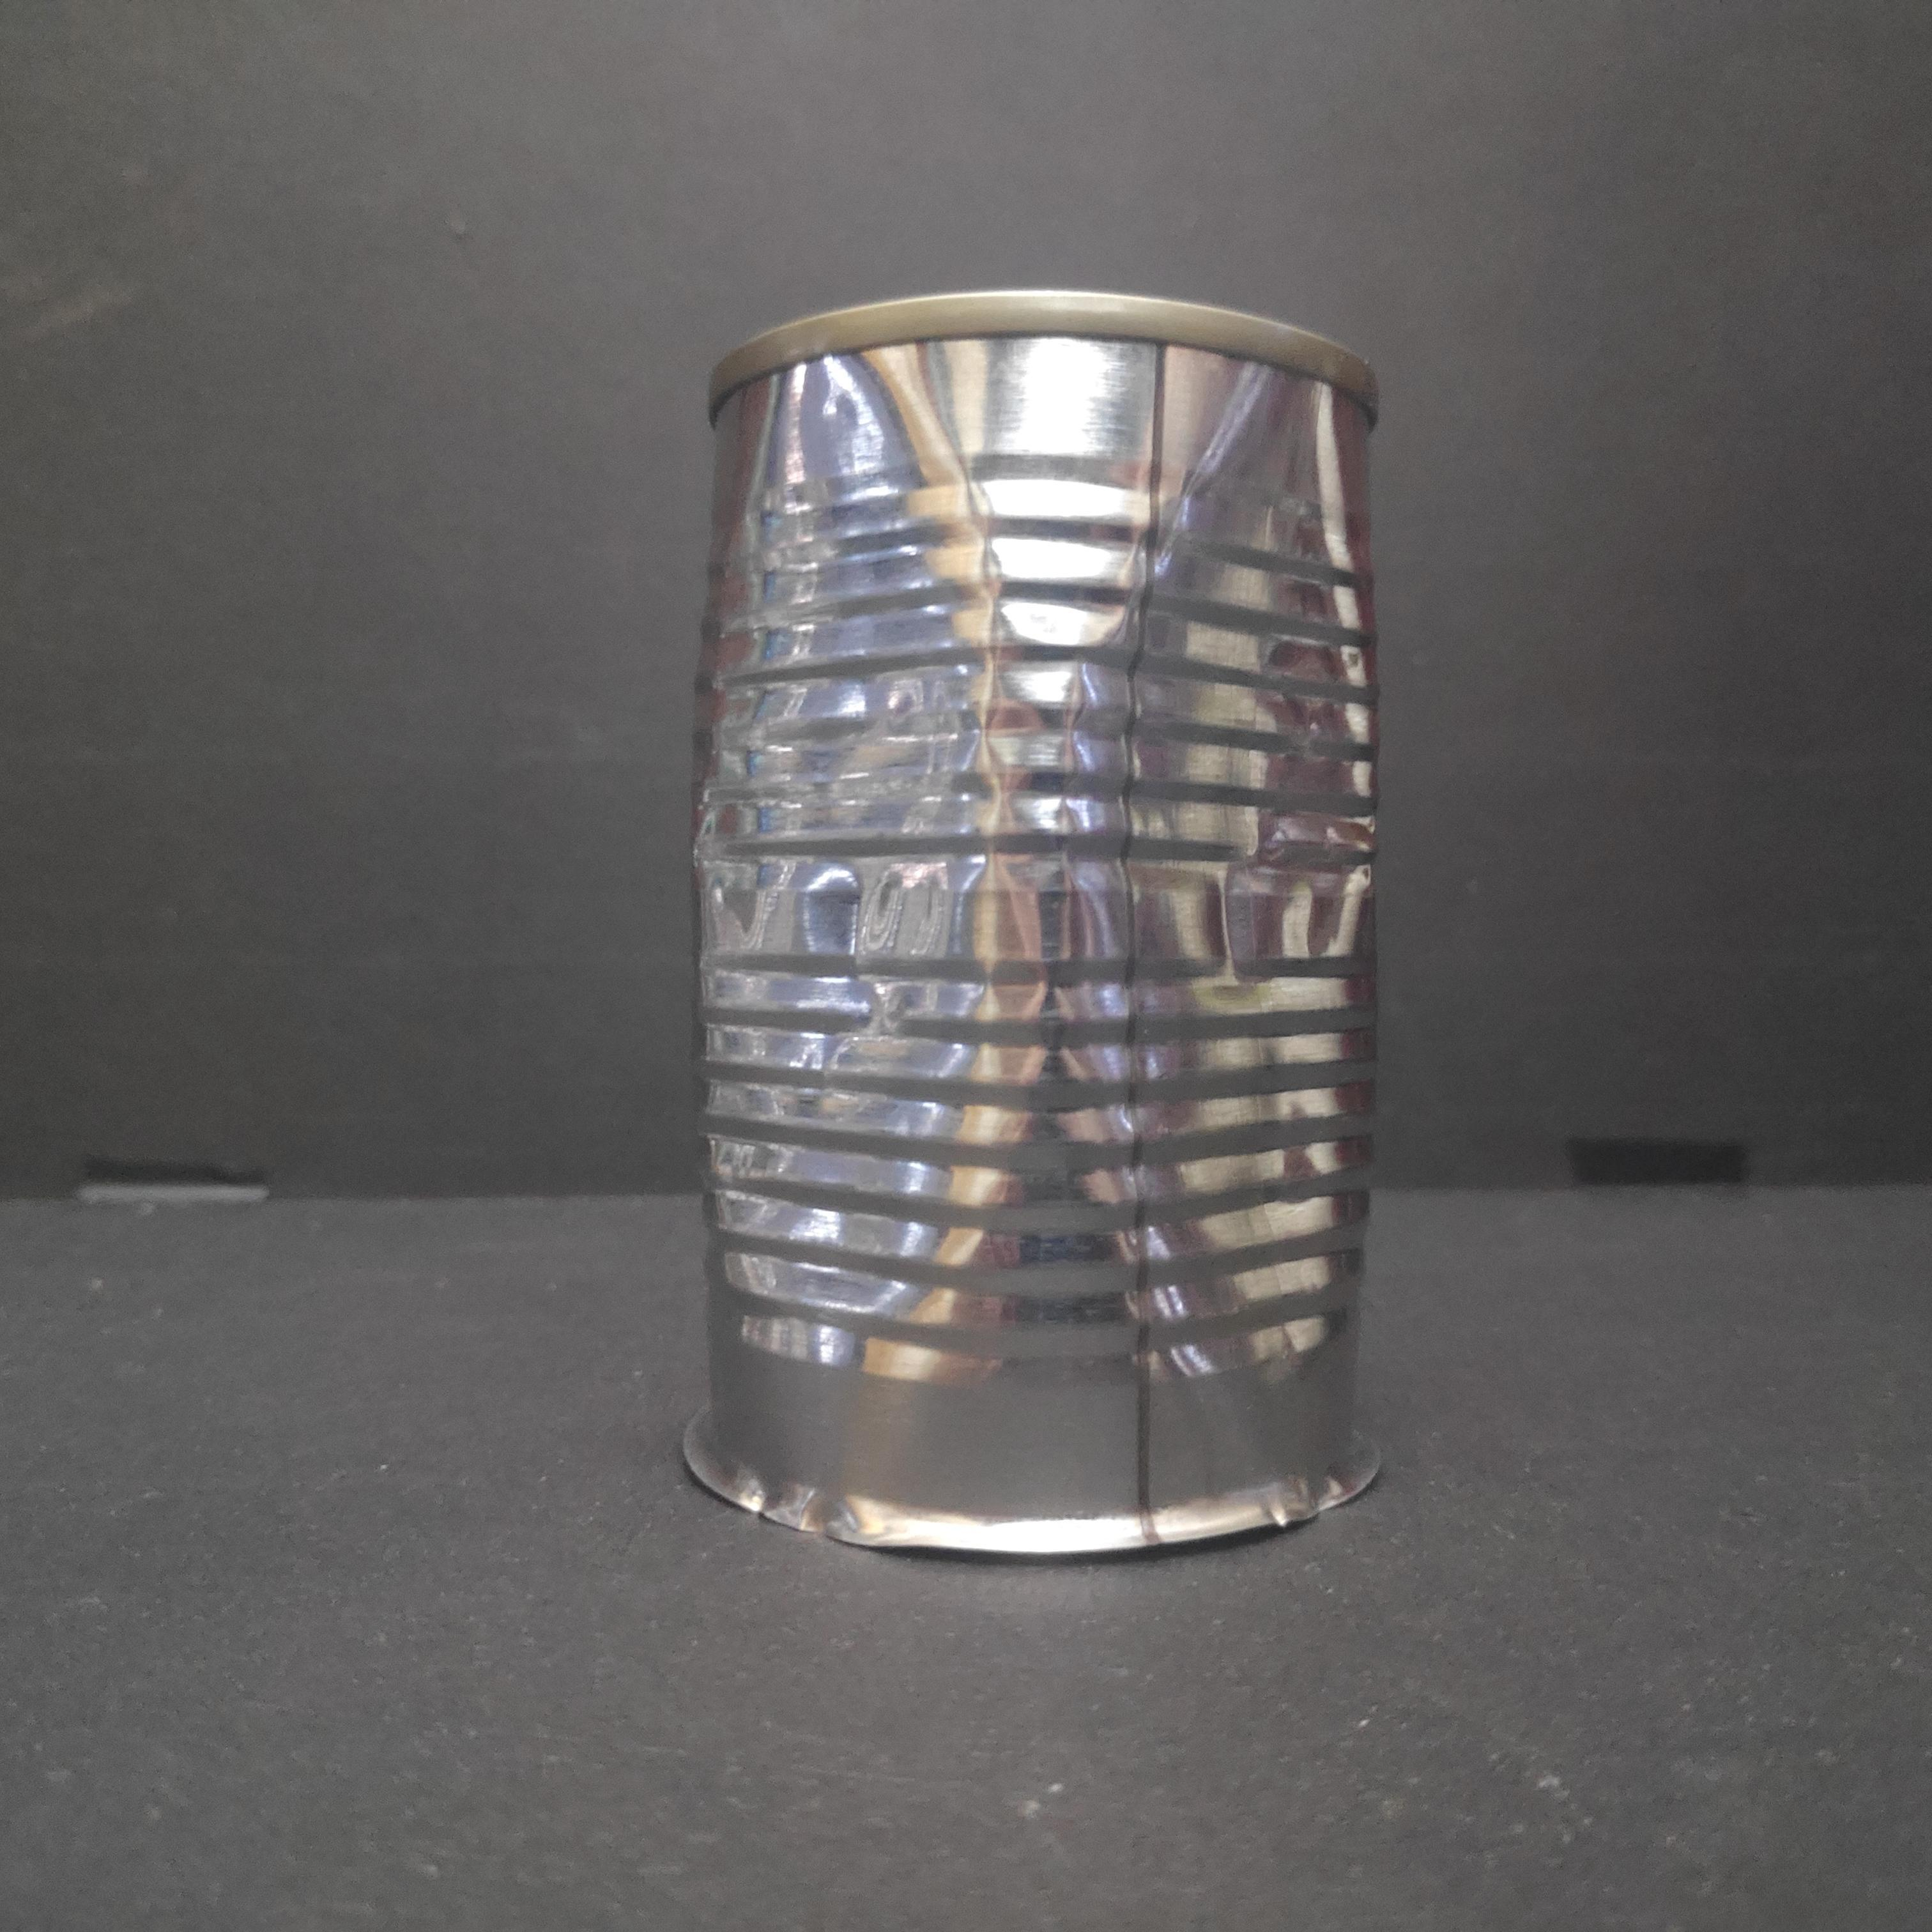Dented: (667, 278, 1431, 1575)
